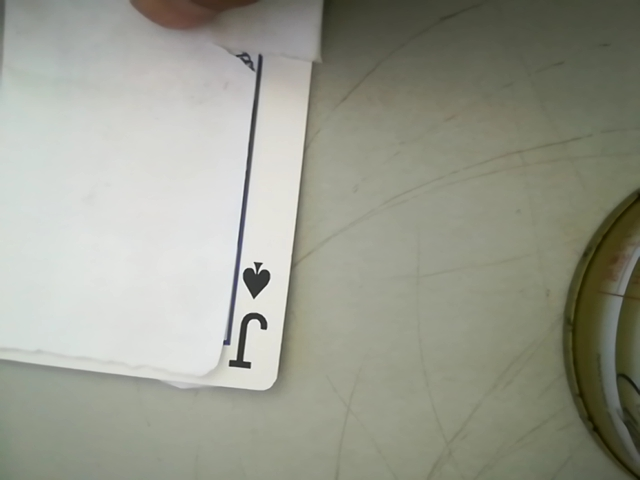ht j: (213, 239, 281, 385)
